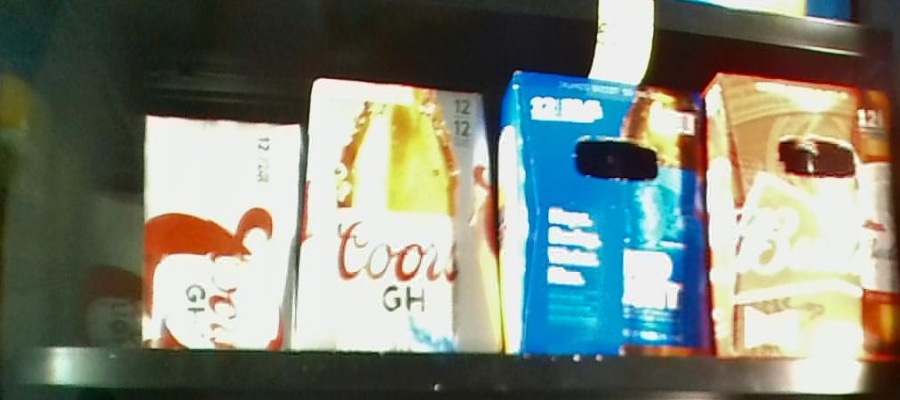bottle: (505, 68, 713, 354), (710, 73, 900, 361), (308, 77, 501, 352), (144, 112, 294, 349), (81, 179, 142, 349)
